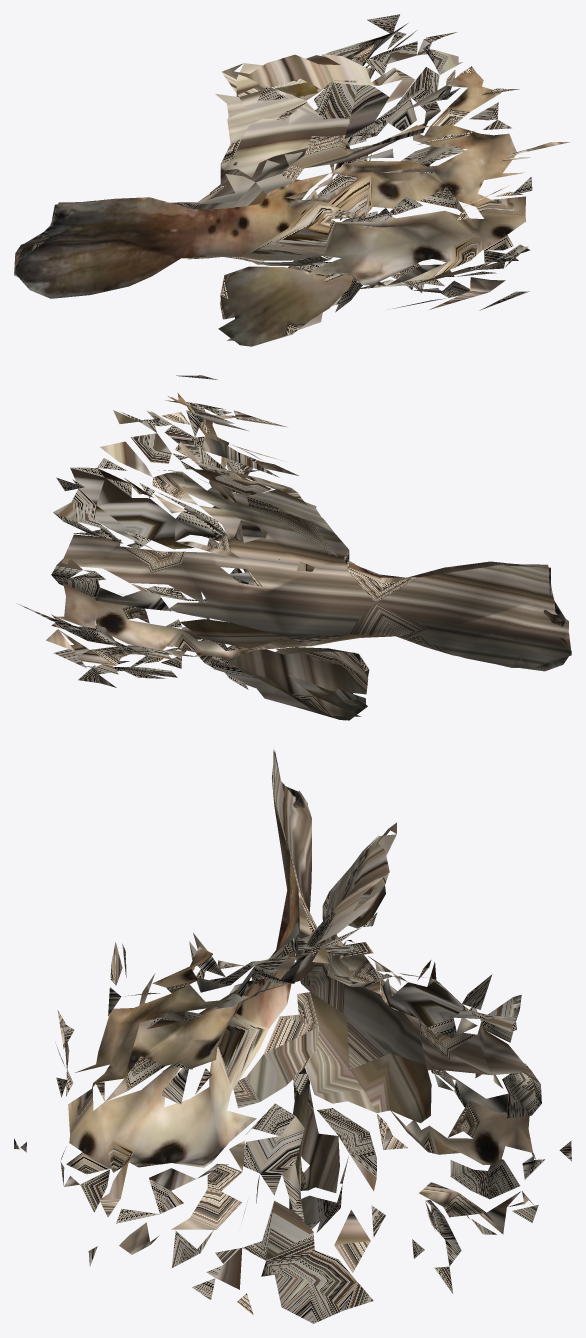
File: pufferballoon_b.glb
3 views of the same model, one above another, from view 1: azimuth 30°, elevation 25°; view 2: azimuth 150°, elevation 25°; view 3: azimuth 270°, elevation 25° (orthographic). The views are drawn at different scales.
Parts seen in each view (by area): view 1: pufferballoon_b; view 2: pufferballoon_b; view 3: pufferballoon_b.
Part boxes in pixels (bbox=[...]): pufferballoon_b: bbox=[14, 14, 570, 346]; pufferballoon_b: bbox=[16, 375, 571, 720]; pufferballoon_b: bbox=[14, 749, 571, 1323].
Bounding box in the file's own units: 0.2189 × 0.1125 × 0.147.
1 material, 1 textured.
